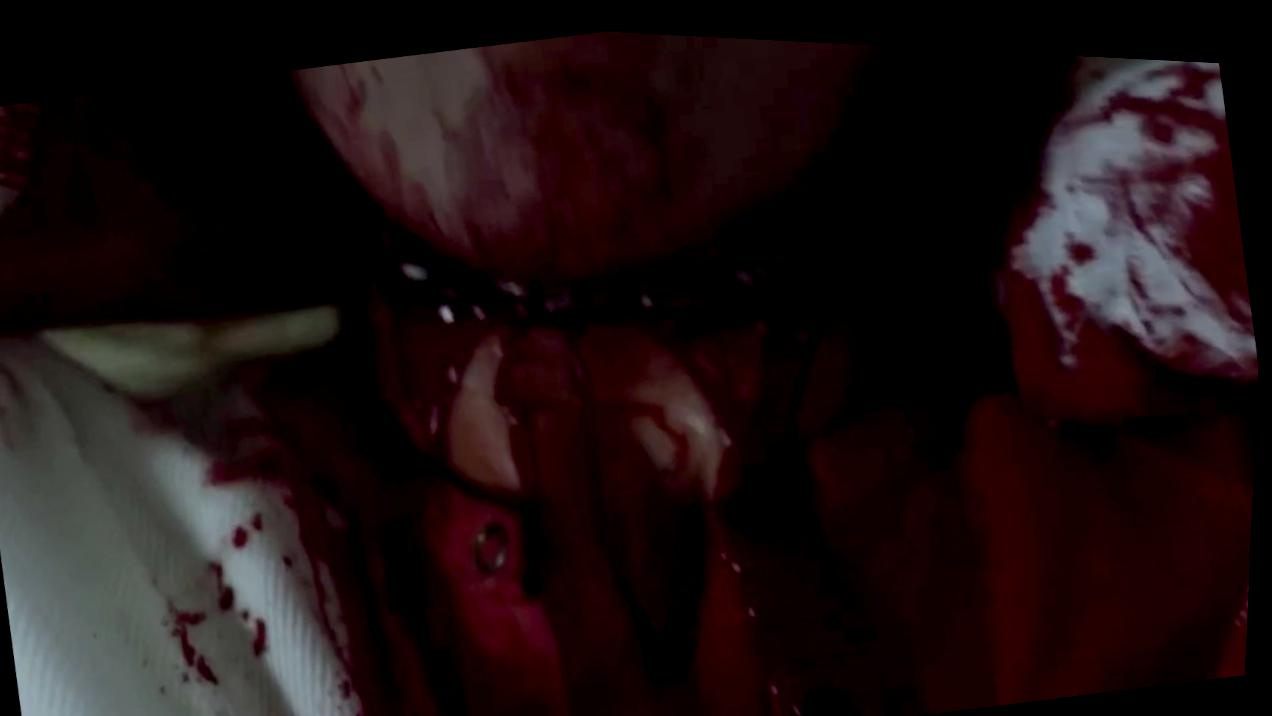Fire: (0, 25, 1261, 716), (0, 68, 352, 327)
